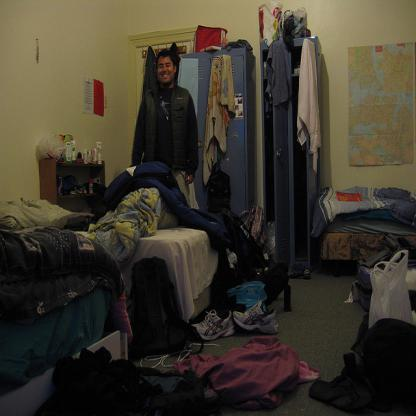backpack: (127, 257, 203, 361), (219, 208, 287, 303), (207, 170, 231, 213)
